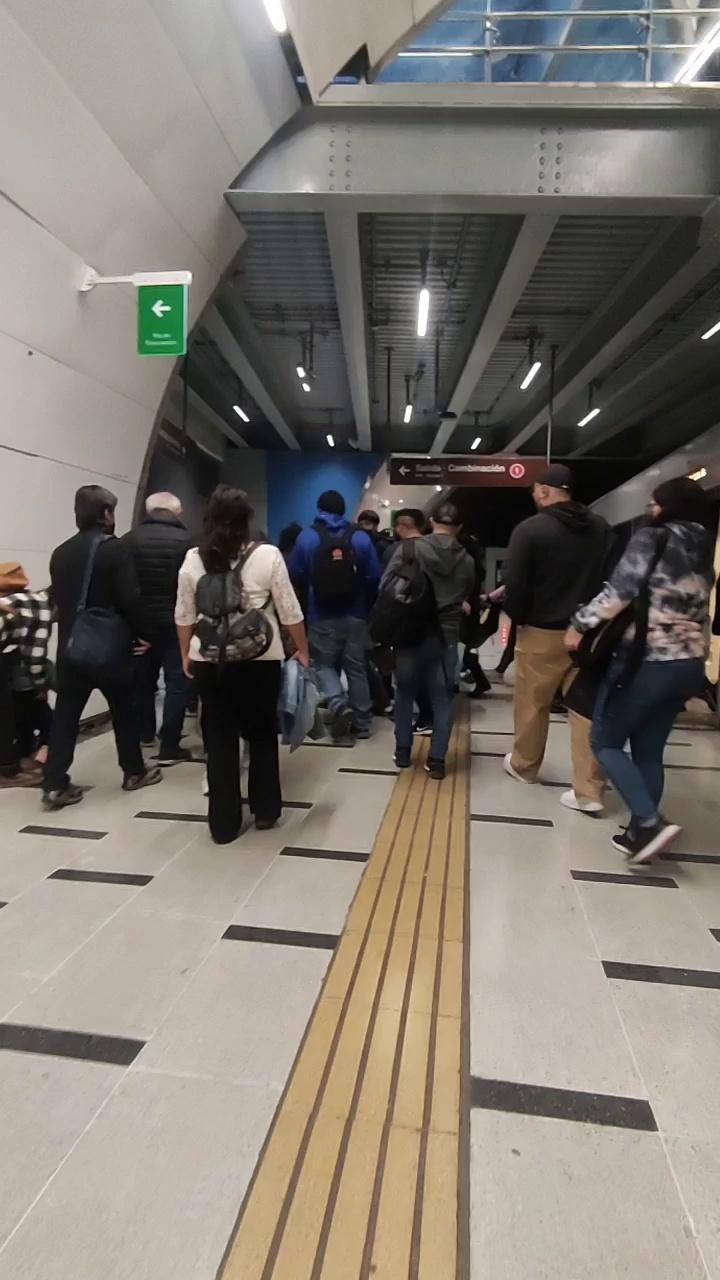left arrow: (398, 464, 412, 476)
